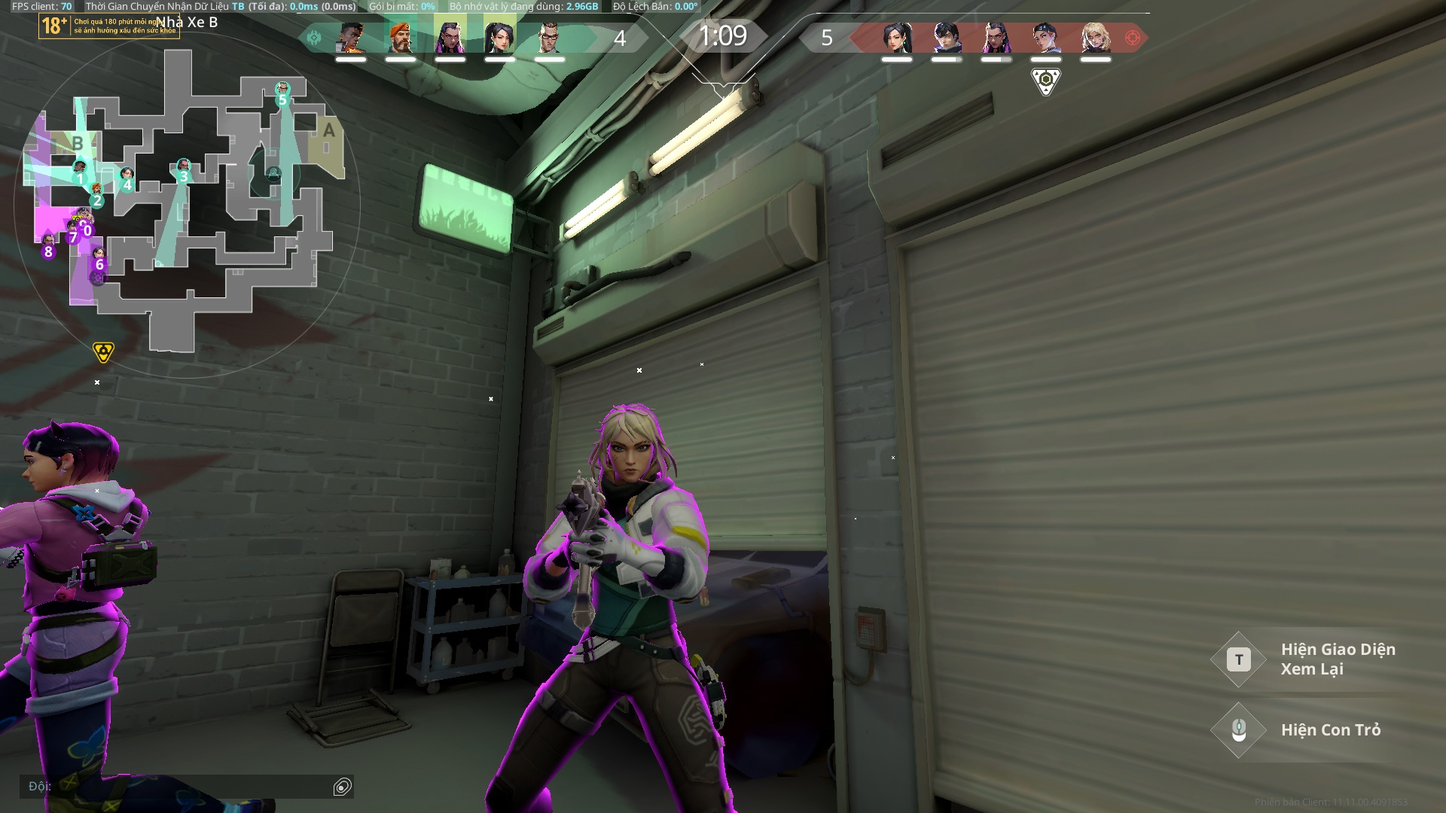body: (569, 474, 693, 620), (19, 483, 146, 611)
head: (20, 419, 121, 489), (593, 404, 666, 488)
